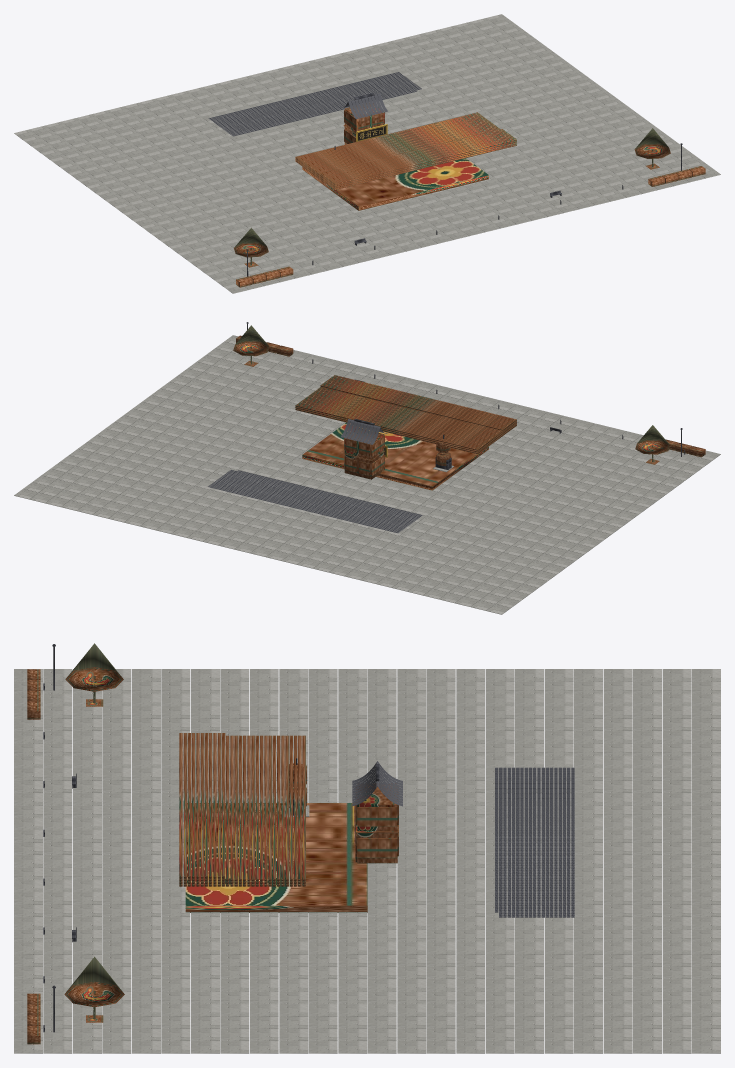
3 views of the same model, one above another, from view 1: azimuth 30°, elevation 25°; view 2: azimuth 150°, elevation 25°; view 3: azimuth 270°, elevation 25° (orthographic). The views are drawn at different scales.
Visible parts, largest first — view 1: 11710_01_05508_029_01__plinth_ground_base, 11710_01_05508_029_02__mass_body_facade, 11710_01_05508_029_03__roof_deck_structure, 11710_01_05508_029_06__landscape_greenery; view 2: 11710_01_05508_029_01__plinth_ground_base, 11710_01_05508_029_02__mass_body_facade, 11710_01_05508_029_03__roof_deck_structure, 11710_01_05508_029_06__landscape_greenery; view 3: 11710_01_05508_029_01__plinth_ground_base, 11710_01_05508_029_02__mass_body_facade, 11710_01_05508_029_03__roof_deck_structure, 11710_01_05508_029_06__landscape_greenery.
Part boxes in pixels (x1,y1,x2,y2): 11710_01_05508_029_01__plinth_ground_base: [14, 14, 720, 293]; 11710_01_05508_029_02__mass_body_facade: [295, 103, 516, 210]; 11710_01_05508_029_03__roof_deck_structure: [208, 72, 421, 136]; 11710_01_05508_029_06__landscape_greenery: [234, 128, 705, 287]; 11710_01_05508_029_01__plinth_ground_base: [14, 335, 720, 614]; 11710_01_05508_029_02__mass_body_facade: [295, 375, 516, 490]; 11710_01_05508_029_03__roof_deck_structure: [208, 419, 422, 533]; 11710_01_05508_029_06__landscape_greenery: [233, 325, 705, 464]; 11710_01_05508_029_01__plinth_ground_base: [14, 669, 720, 1053]; 11710_01_05508_029_02__mass_body_facade: [179, 733, 398, 912]; 11710_01_05508_029_03__roof_deck_structure: [352, 761, 574, 917]; 11710_01_05508_029_06__landscape_greenery: [27, 643, 124, 1044].
Size of the model in its own units: 89.95 by 9.85 by 69.95.
7 materials, 7 textured.
